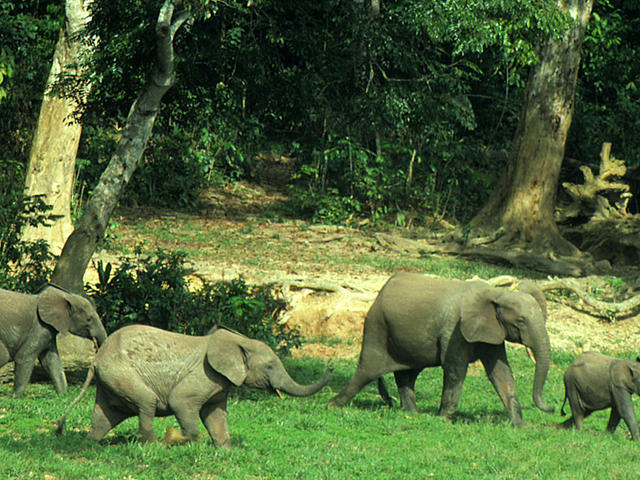elephant: (330, 263, 558, 433), (56, 321, 336, 451), (1, 274, 110, 402), (556, 340, 640, 446)
